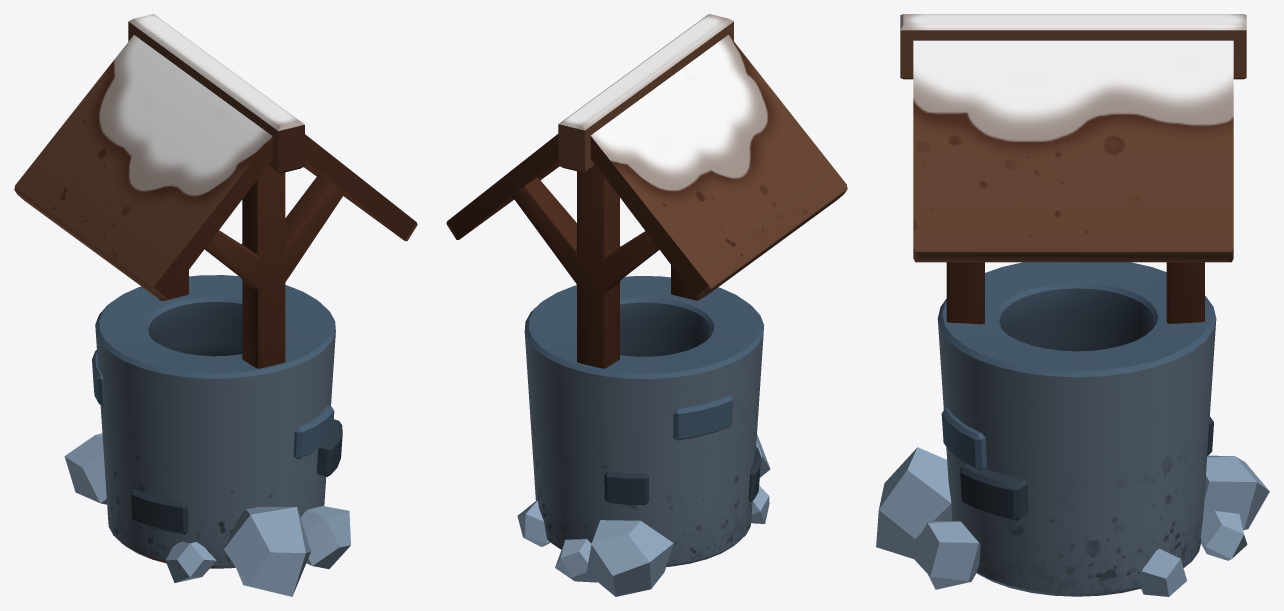
File: Well.fbx
The picture shows the model from 3 angles, left to right: view 1: azimuth 30°, elevation 25°; view 2: azimuth 150°, elevation 25°; view 3: azimuth 270°, elevation 25°; orthographic projection. The views are drawn at different scales.
Parts seen in each view (by area): view 1: Cube.005; view 2: Cube.005; view 3: Cube.005.
Part boxes in pixels (<box>): Cube.005: <box>14,14,417,596</box>; Cube.005: <box>446,14,847,596</box>; Cube.005: <box>876,14,1269,596</box>.
Size of the model in its own units: 170 by 286 by 188.
